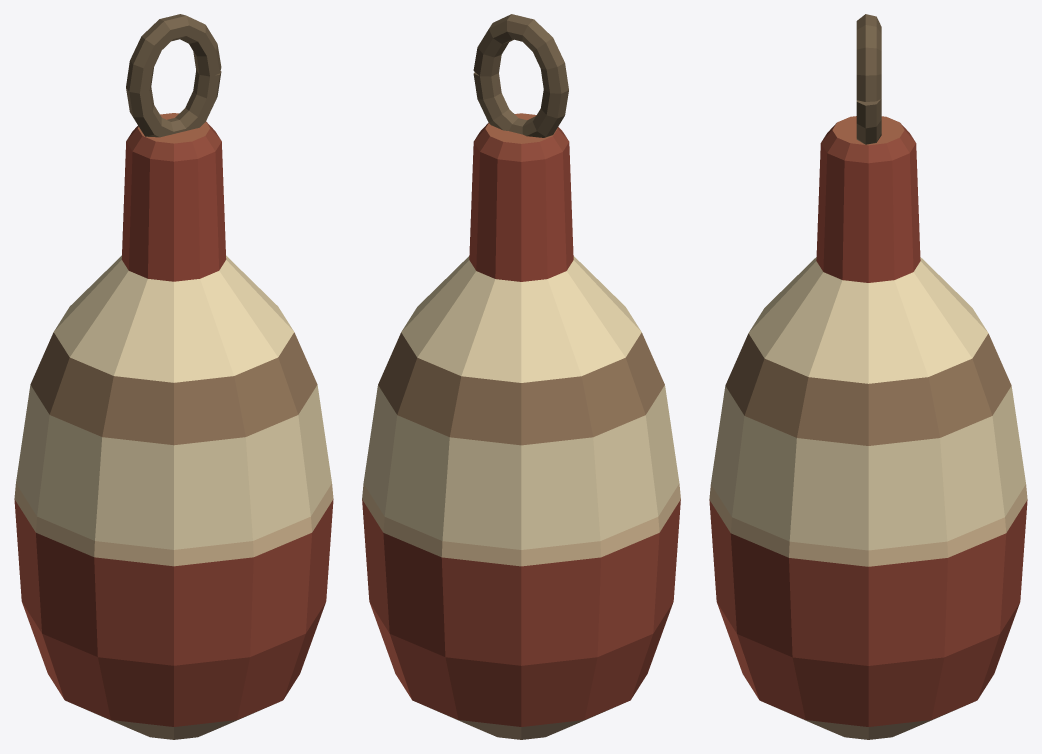
File: PotMarker.glb
3 views of the same model, side by side, from view 1: azimuth 30°, elevation 25°; view 2: azimuth 150°, elevation 25°; view 3: azimuth 270°, elevation 25° (orthographic).
Parts seen in each view (by area): view 1: PotMarker; view 2: PotMarker; view 3: PotMarker.
Boxes of the visible parts, bbox=[...] form: PotMarker: bbox=[14, 14, 333, 739]; PotMarker: bbox=[362, 14, 680, 739]; PotMarker: bbox=[709, 14, 1027, 739].
Size of the model in its own units: 0.22 by 0.5343 by 0.22.
